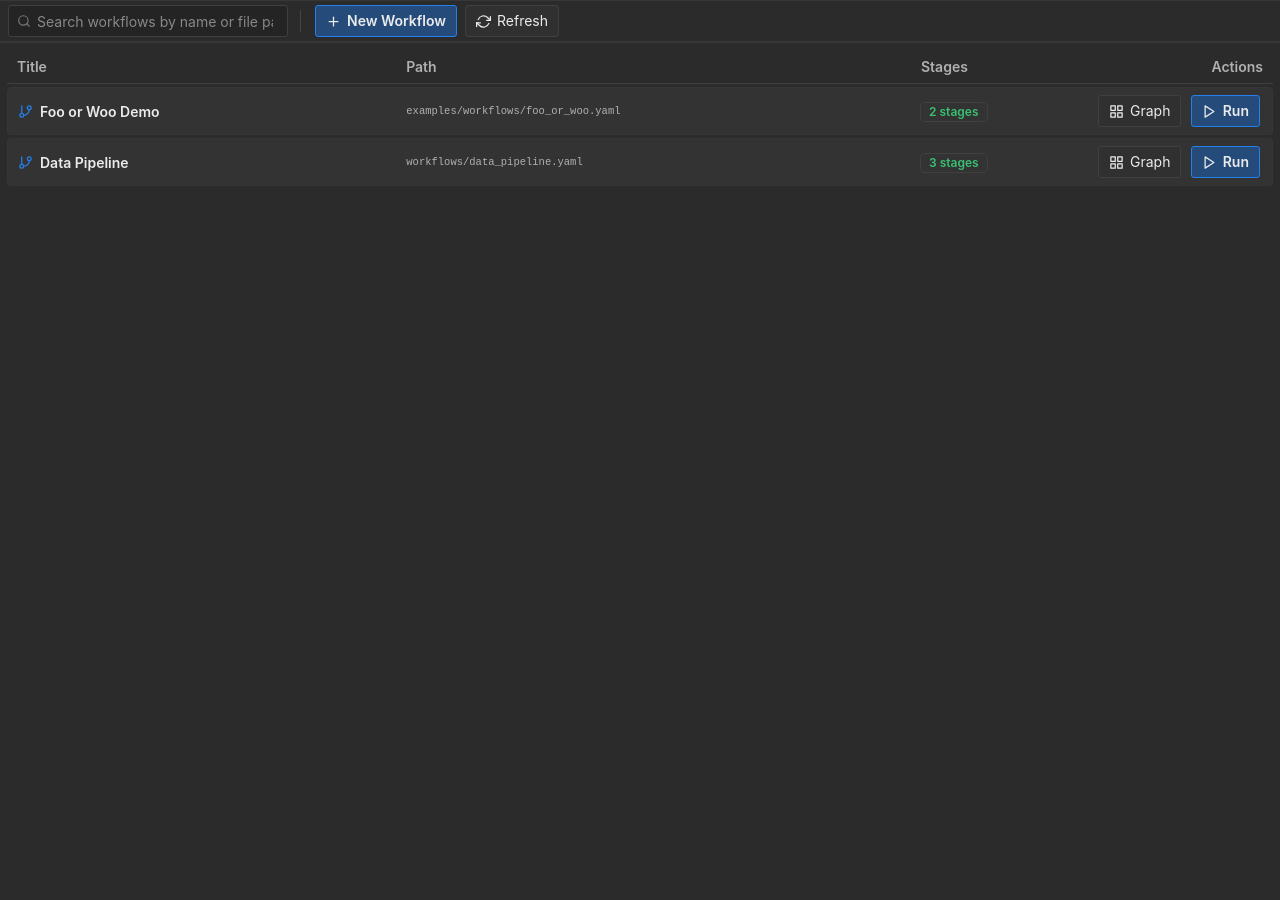
Scenario: WorkflowPicker component › opens New Workflow modal and creates a workflow navigating to editor
Later steps or results of the test are not shown.
Expected: the text "Foo or Woo Demo" is shown, [40, 100, 160, 122]
Click the button with test id "btn-new-workflow": coordinates (386, 21) [315, 5, 457, 37]
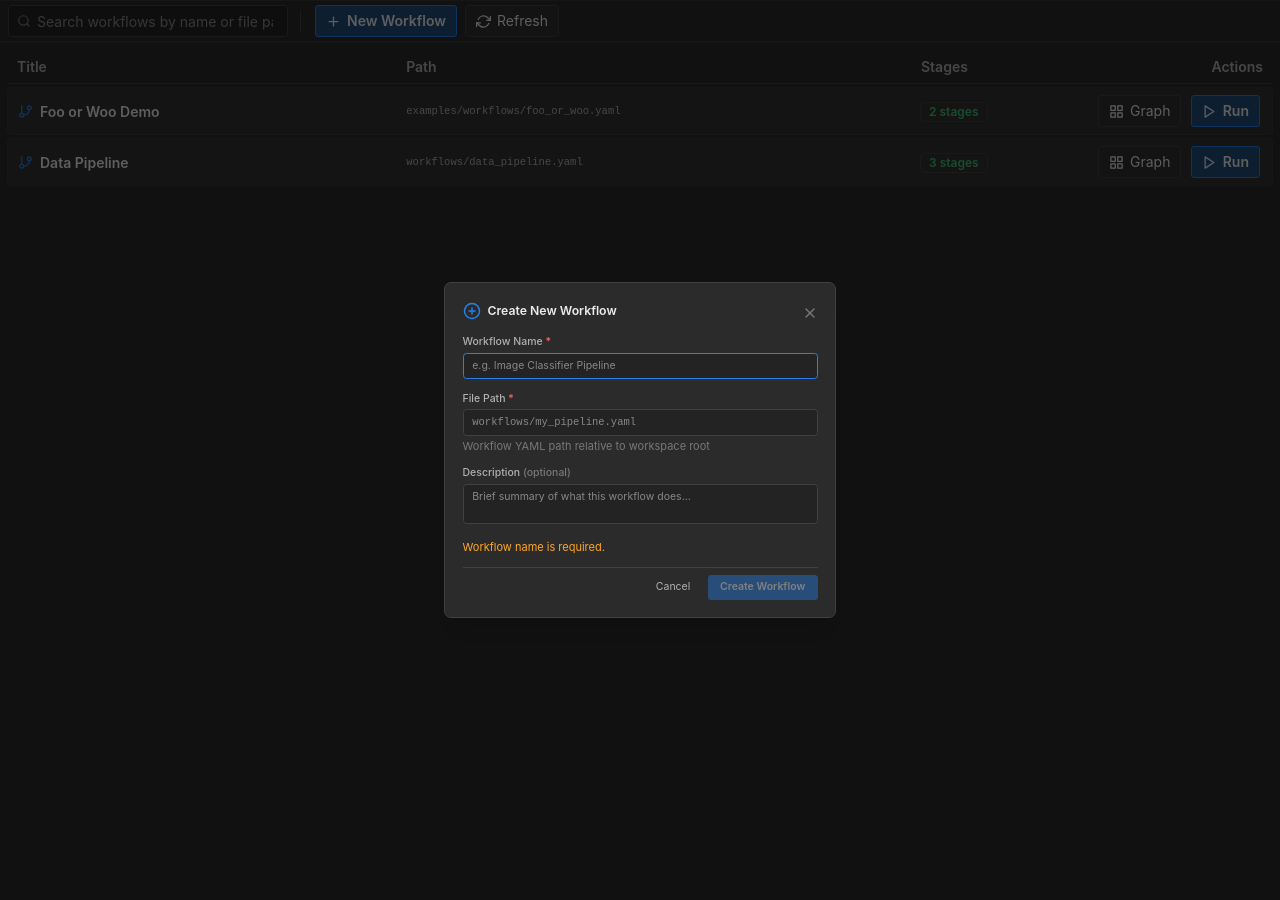
Result: the dialog with test id "modal-new-workflow" is shown
Result: the button with test id "btn-submit-new-workflow" is disabled at [708, 575, 818, 600]
Note: Type name: automatically generates slug path
In the field with test id "input-new-workflow-name": coordinates (640, 366) [462, 353, 818, 379], type "My New Workflow"
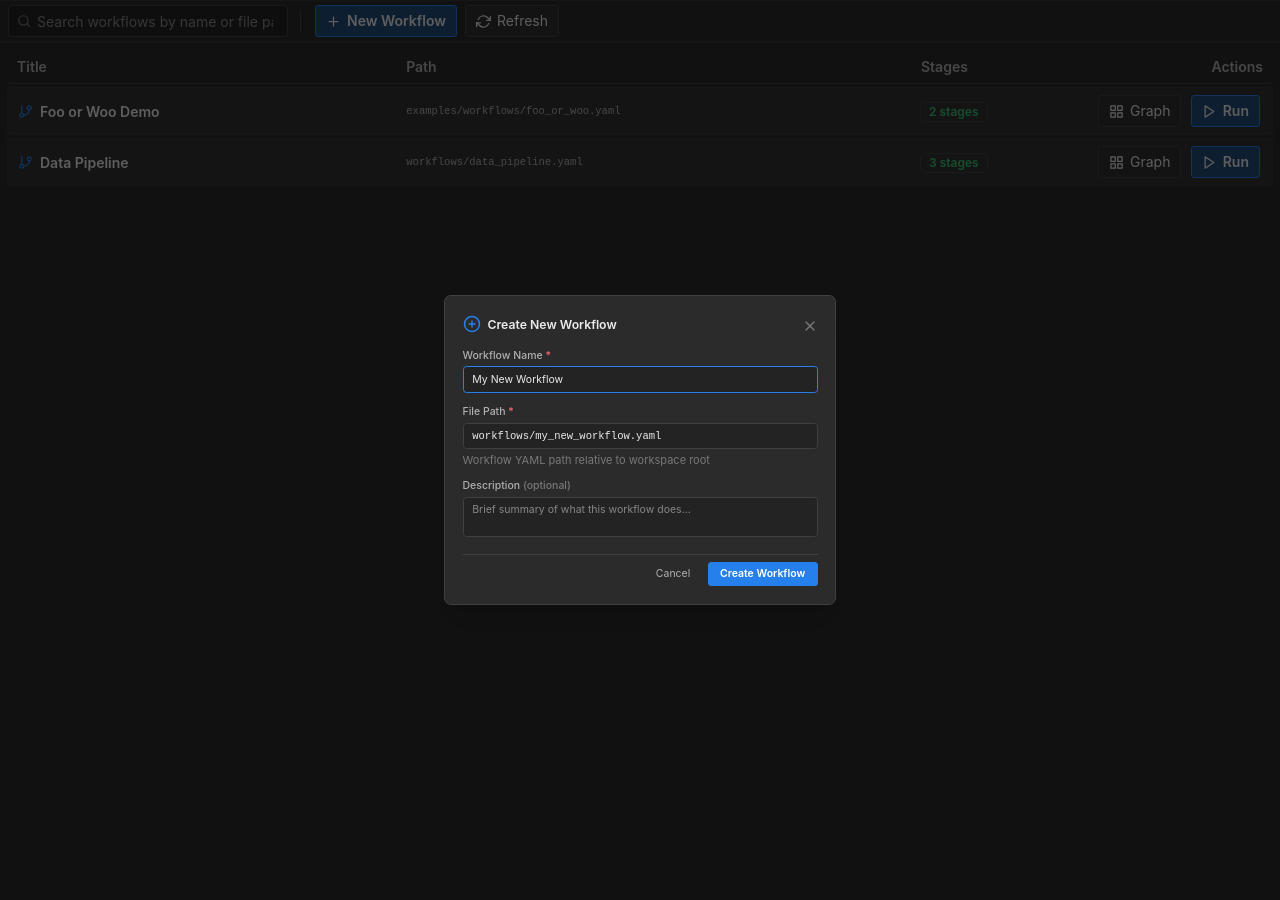
Result: the field with test id "input-new-workflow-path" holds "workflows/my_new_workflow.yaml"
Result: the button with test id "btn-submit-new-workflow" is enabled at [708, 562, 818, 586]
Note: Test duplicate path validation
Replace the text in the field with test id "input-new-workflow-path" with "workflows/data_pipeline.yaml": coordinates (640, 436) [462, 422, 818, 449]
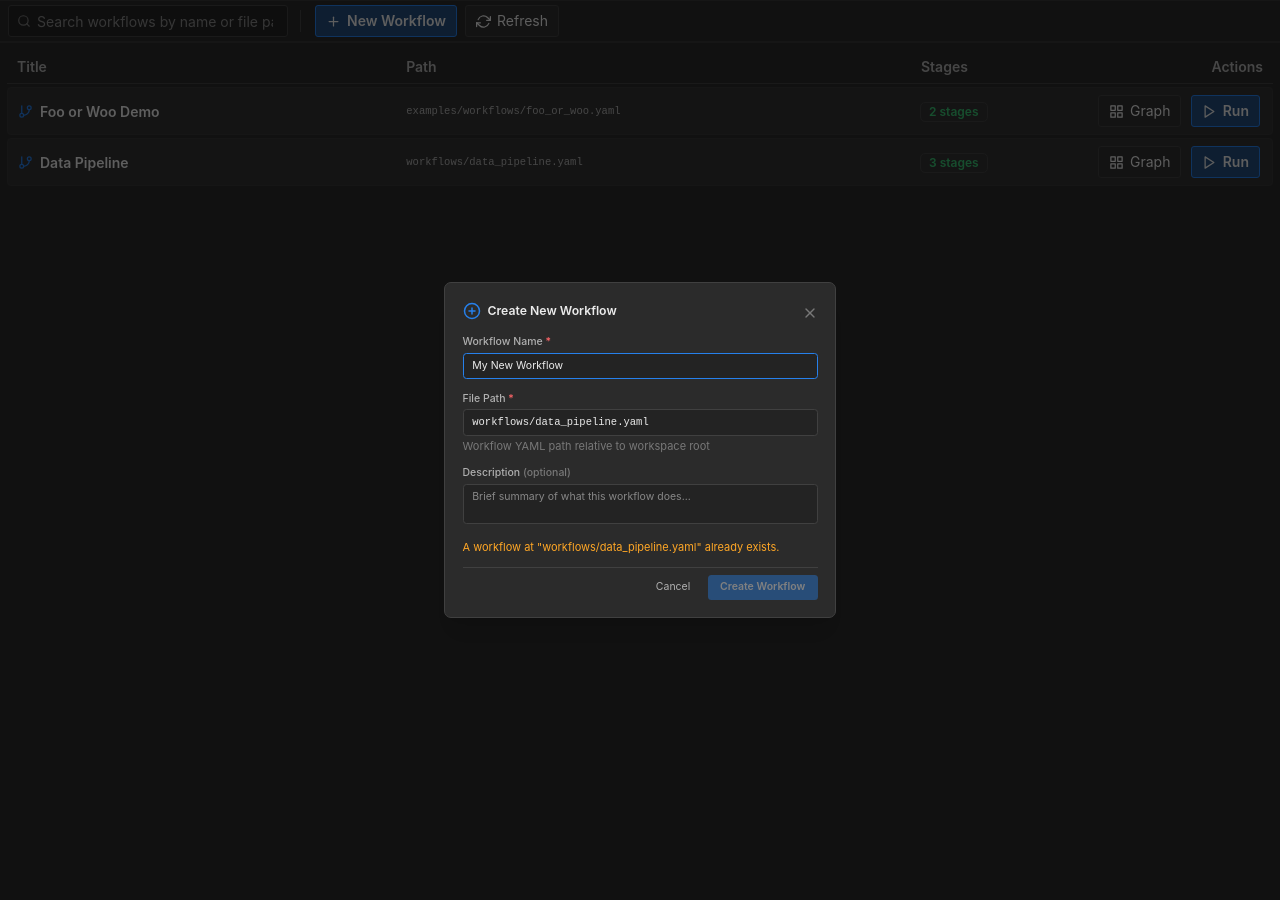
Result: the text "A workflow at \"workflows/data_pipeline.yaml\" already exists." is shown at [462, 540, 818, 555]
Result: the button with test id "btn-submit-new-workflow" is disabled at [708, 575, 818, 600]
Note: Change back to new path
Replace the text in the field with test id "input-new-workflow-path" with "workflows/my_new_workflow.yaml": coordinates (640, 422) [462, 409, 818, 436]
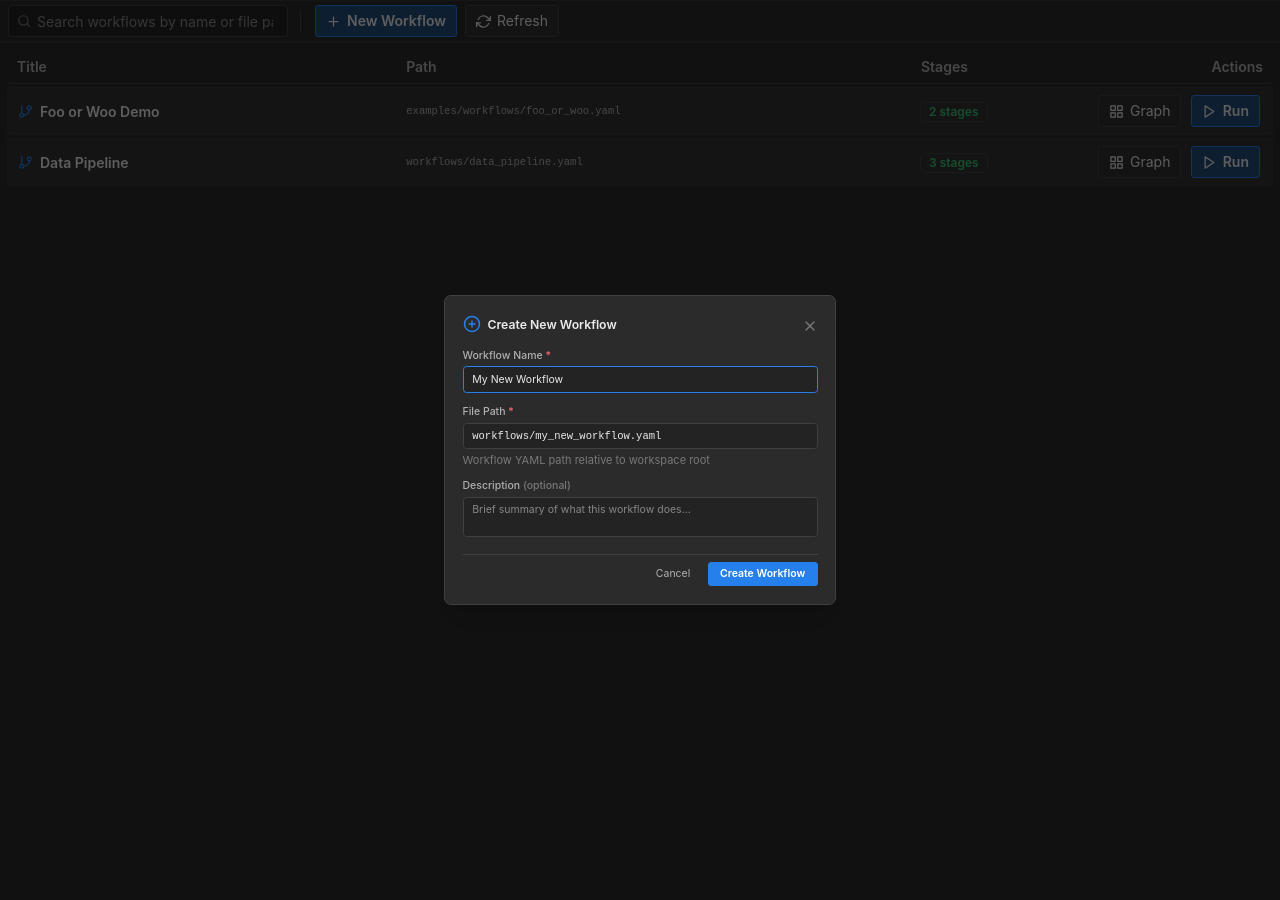
Result: the button with test id "btn-submit-new-workflow" is enabled at [708, 562, 818, 586]
